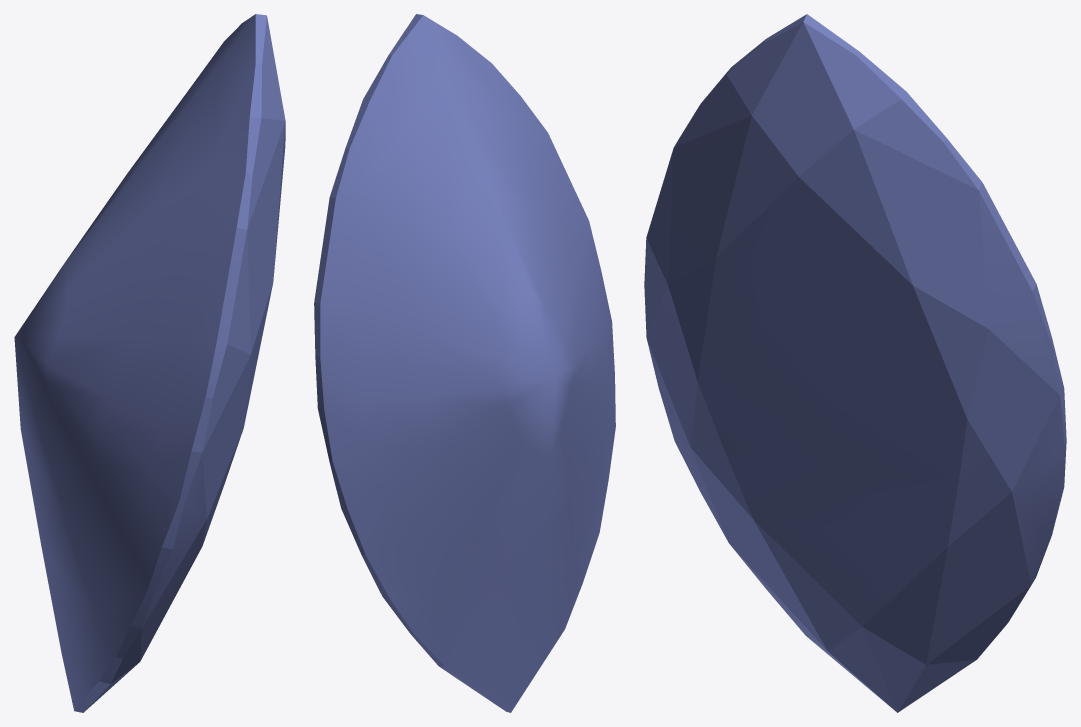
File: TR4_8shapes_Marquise_Classic_Stone.001 3.glb
3 views of the same model, side by side, from view 1: azimuth 30°, elevation 25°; view 2: azimuth 150°, elevation 25°; view 3: azimuth 270°, elevation 25° (orthographic). The views are drawn at different scales.
Parts seen in each view (by area): view 1: TR4_8shapes_Marquise_Classic_Stone.001; view 2: TR4_8shapes_Marquise_Classic_Stone.001; view 3: TR4_8shapes_Marquise_Classic_Stone.001.
Part boxes in pixels (x1=…): TR4_8shapes_Marquise_Classic_Stone.001: x1=14, y1=14, x2=285, y2=712; TR4_8shapes_Marquise_Classic_Stone.001: x1=314, y1=14, x2=615, y2=712; TR4_8shapes_Marquise_Classic_Stone.001: x1=644, y1=14, x2=1066, y2=712.
Size of the model in its own units: 0.2196 by 0.6393 by 0.3179.
